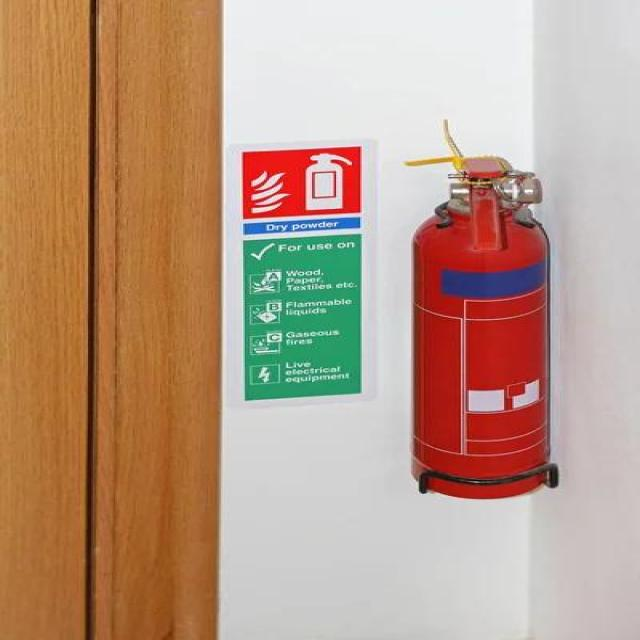fire_extinguisher: (400, 150, 566, 507)
